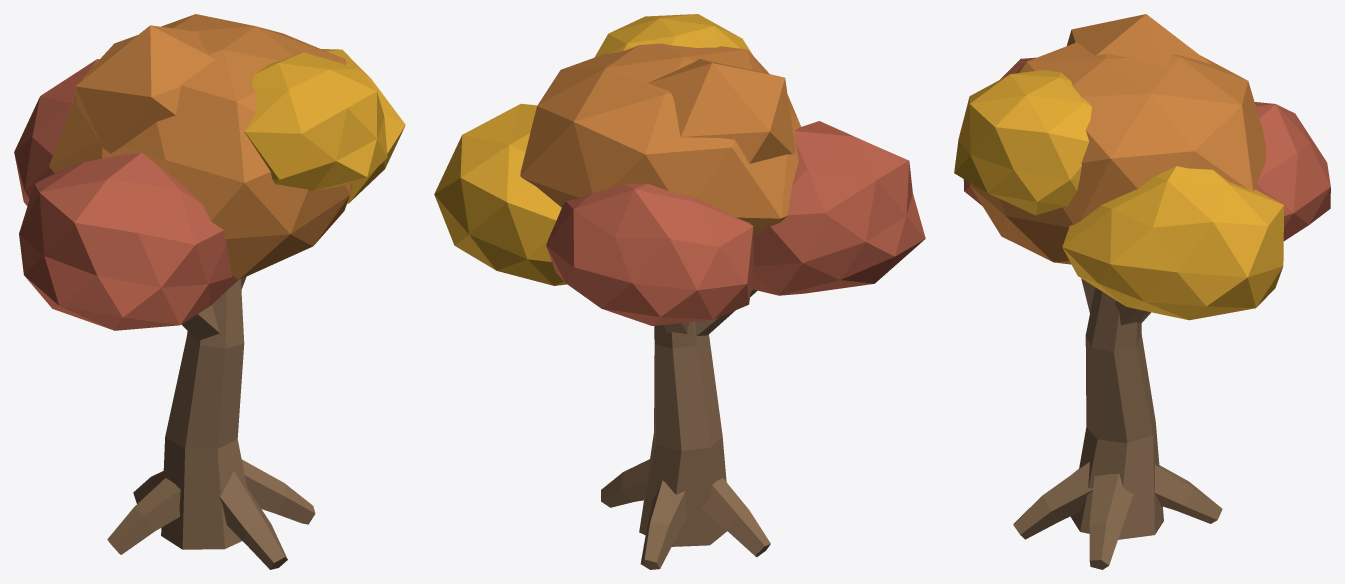
The model's file is Cozy_Tree_Large_03_AutumnMaple.fbx.
3 views of the same model, side by side, from view 1: azimuth 30°, elevation 25°; view 2: azimuth 150°, elevation 25°; view 3: azimuth 270°, elevation 25° (orthographic). The views are drawn at different scales.
Visible parts, largest first — view 1: Cozy_Tree_Large_03_AutumnMaple; view 2: Cozy_Tree_Large_03_AutumnMaple; view 3: Cozy_Tree_Large_03_AutumnMaple.
Part boxes in pixels (left/top/right/bottom): Cozy_Tree_Large_03_AutumnMaple: left=14, top=14, right=405, bottom=569; Cozy_Tree_Large_03_AutumnMaple: left=434, top=14, right=925, bottom=569; Cozy_Tree_Large_03_AutumnMaple: left=954, top=14, right=1330, bottom=569.
Bounding box in the file's own units: 3.78 × 4.56 × 3.14.
